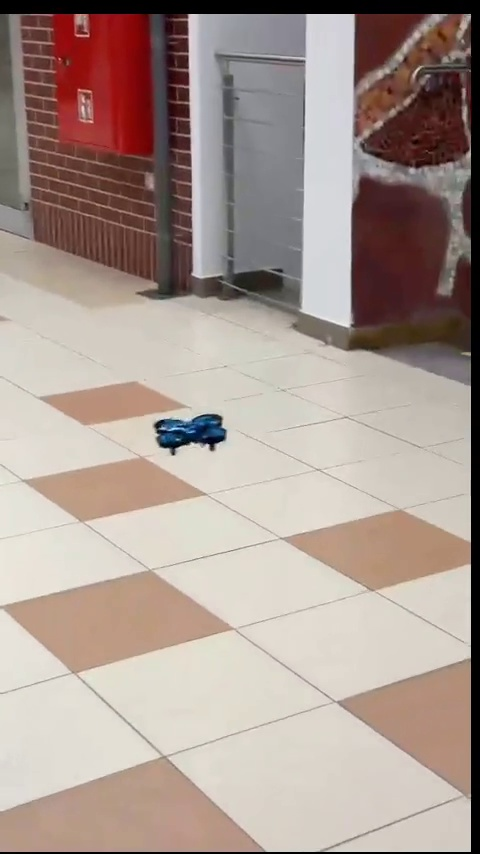drone: (153, 412, 225, 449)
